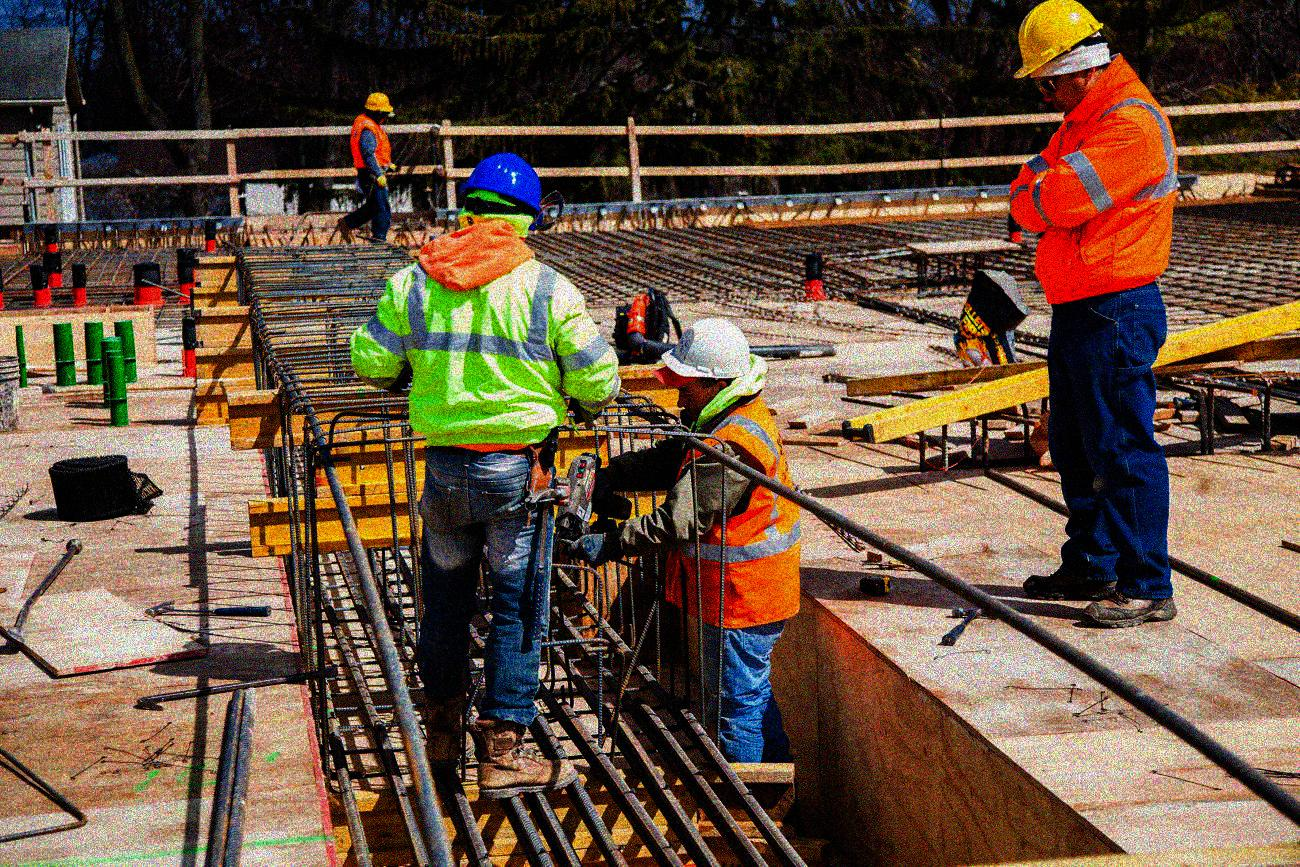helmet: (1008, 1, 1114, 107), (654, 318, 756, 420), (456, 151, 552, 244), (362, 88, 396, 125)
